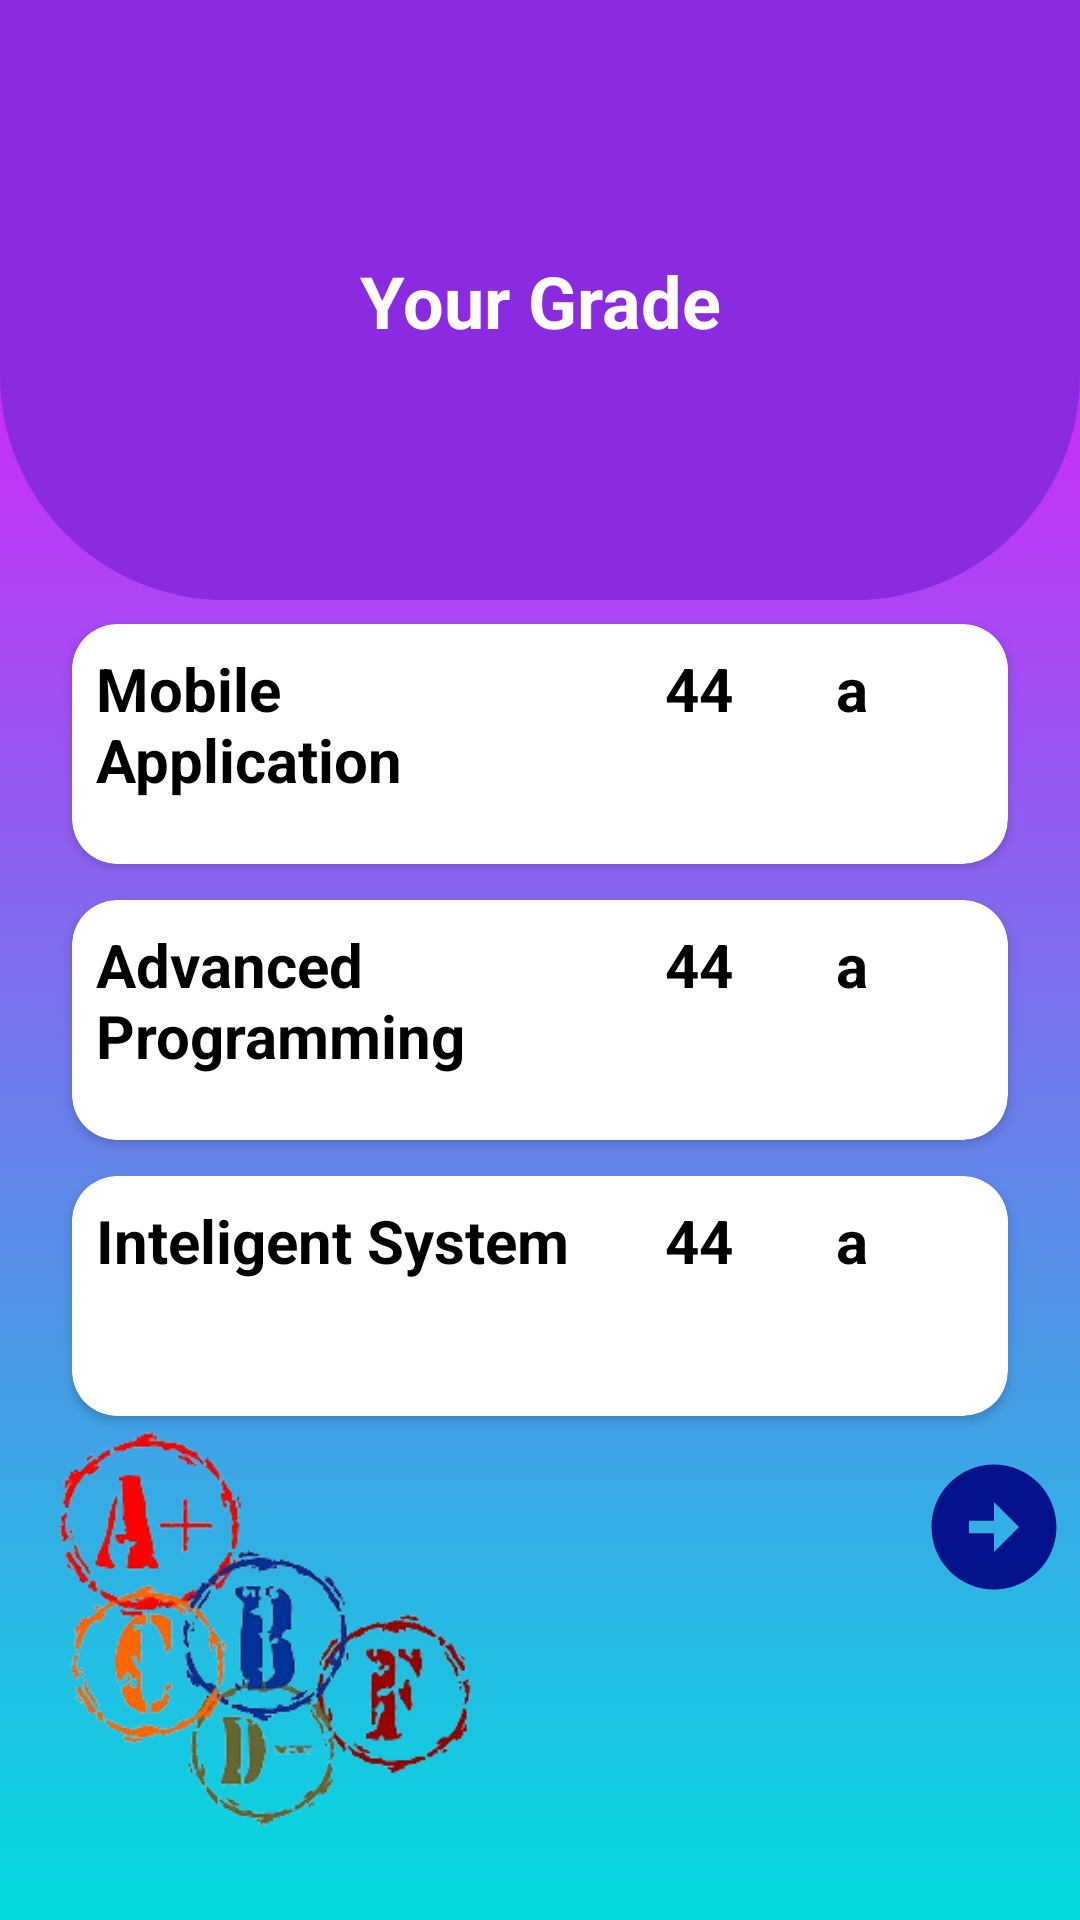

Named icons in this screenshot (1080*1920) and their bounding boxes, [x1,y1,x2,y2]:
next: [931,1464,1057,1590]
